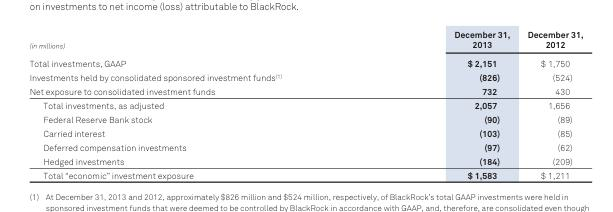table: (28, 28, 582, 180)
table column: (28, 28, 367, 180), (367, 28, 517, 180), (517, 28, 582, 180)
table column header: (28, 28, 582, 53)
table row: (28, 28, 582, 53), (28, 53, 582, 69), (28, 83, 582, 98), (28, 153, 582, 168), (28, 69, 582, 83), (28, 98, 582, 112), (28, 112, 582, 126), (28, 139, 582, 153), (28, 126, 582, 139), (28, 168, 582, 180)
